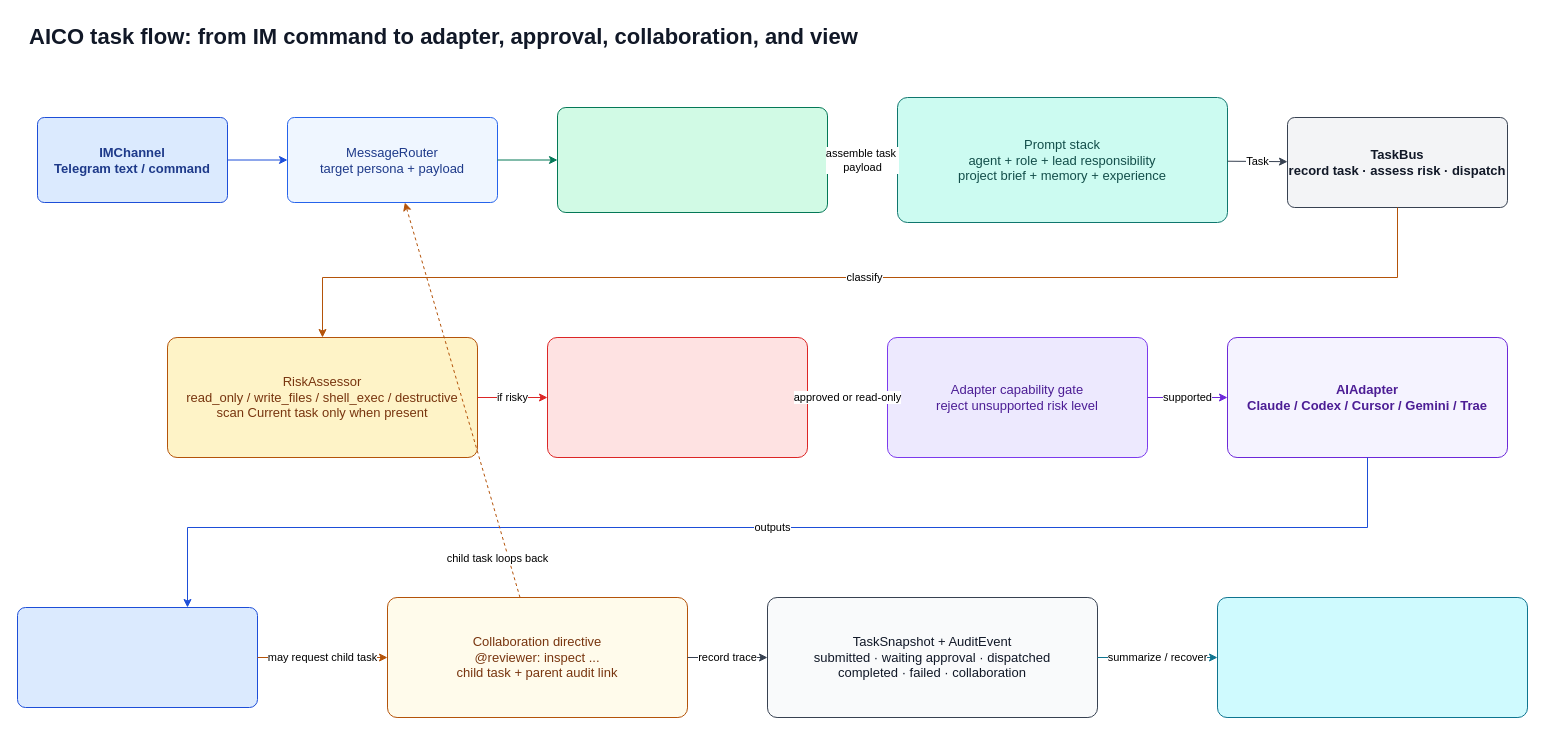
This 1545x735 diagram has some shape labels left out. The shapes that lost their labels are listed below. From the top down, each one's centre as x and y in pixels, then its label:
At (692,159): "OrchestratorTaskFactory active project · appointment · session".
At (677,397): "ApprovalPolicy /approve or /reject requester or listed reviewer".
At (137,657): "Streamed output mobile-readable chunks".
At (1372,657): "/inbox /morning /task /audit /view boss-facing recovery surfaces".
